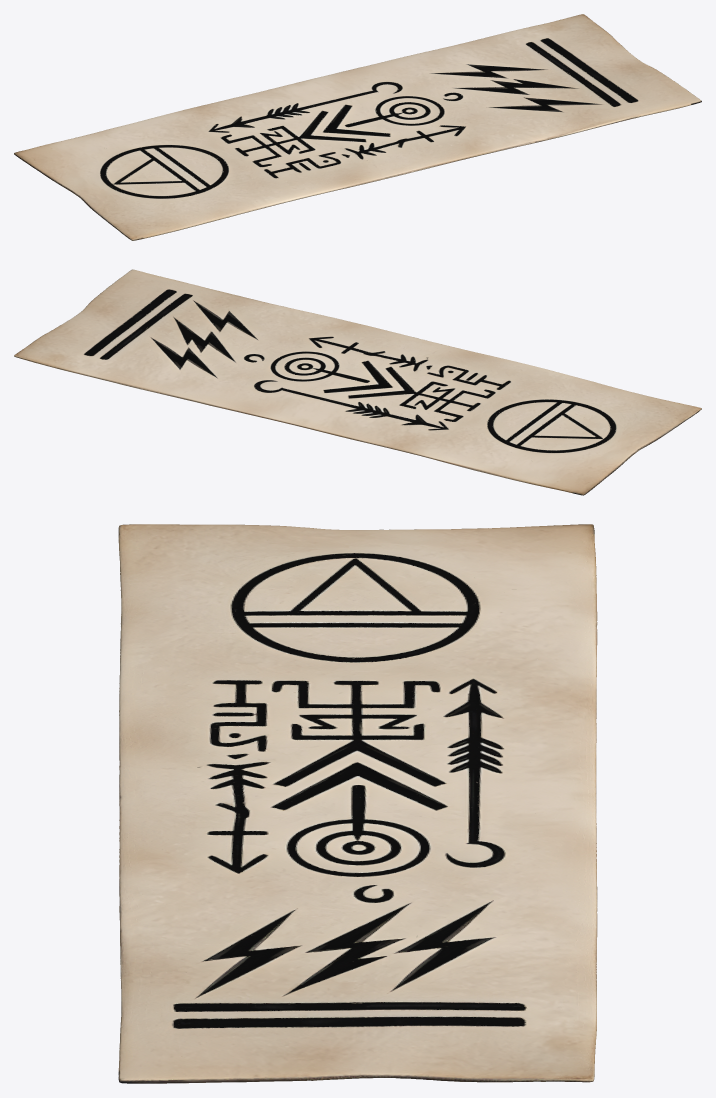
The model's file is Meshy_AI_Sigil_Scroll_0519235706_texture.glb.
The picture shows the model from 3 angles, top to bottom: view 1: azimuth 30°, elevation 25°; view 2: azimuth 150°, elevation 25°; view 3: azimuth 270°, elevation 25°; orthographic projection. The views are drawn at different scales.
Visible parts, largest first — view 1: Mesh_0.001; view 2: Mesh_0.001; view 3: Mesh_0.001.
Part boxes in pixels (x1,y1,x2,y2): Mesh_0.001: (14, 14, 701, 240); Mesh_0.001: (14, 269, 701, 495); Mesh_0.001: (118, 524, 597, 1083).
Size of the model in its own units: 9.05 by 0.12 by 3.29.
Materials: 1 (1 with a texture image).
